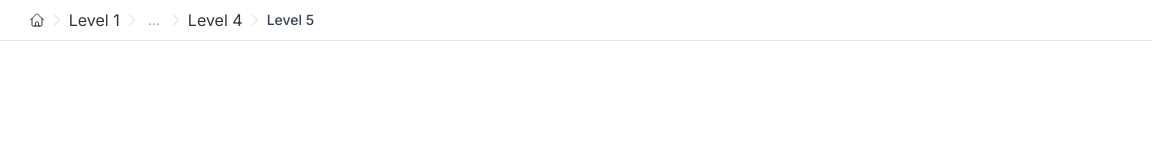
Test: Breadcrumbs › expands truncated breadcrumbs when clicking ellipsis
# Click the ellipsis
Click the button "..." at x=154, y=20, box [144,8,164,32]
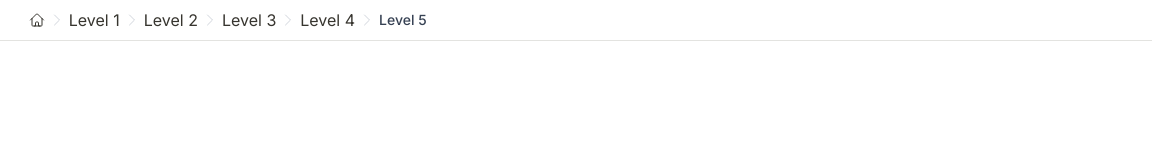
Expected: the text "Level 1" is shown, [69,10,120,30]
Result: the text "Level 2" is shown at [144,10,198,30]
Result: the text "Level 3" is shown at [222,10,276,30]
